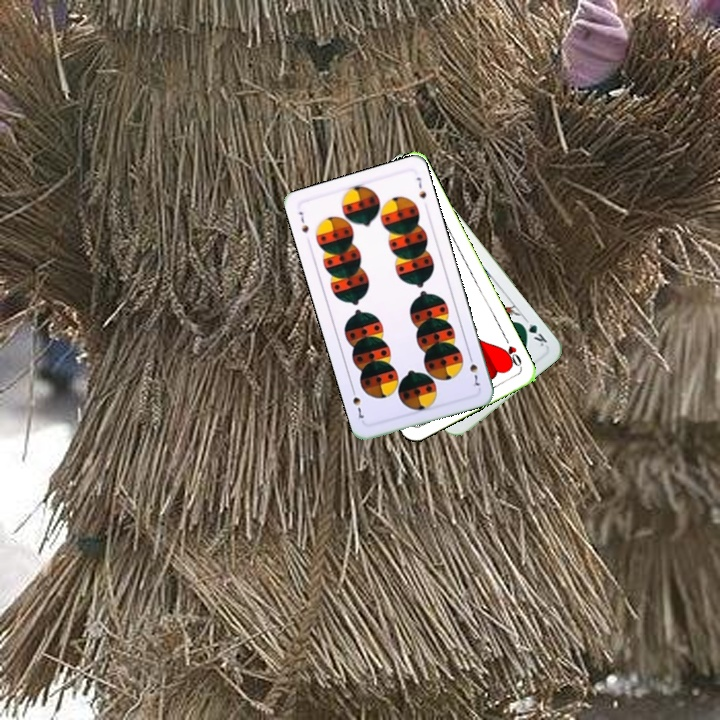GK: (516, 314, 550, 349)
HO: (498, 332, 524, 370)
S7: (465, 350, 482, 389), (295, 207, 311, 236)
